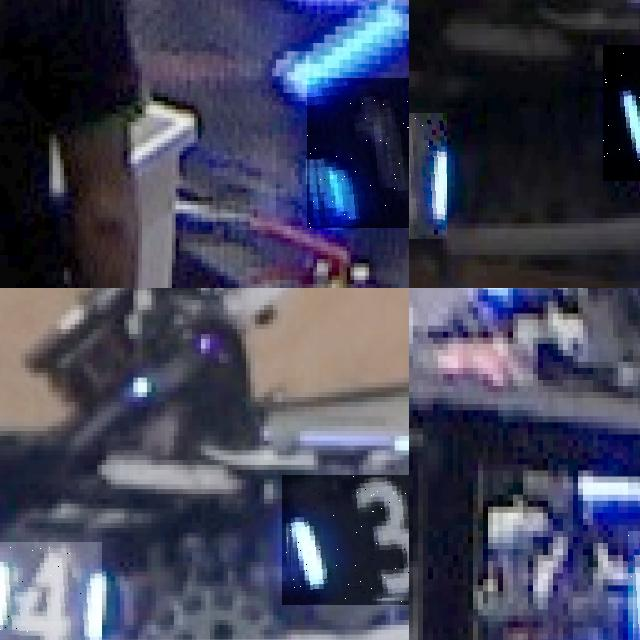B1: (307, 78, 409, 227)
B3: (282, 474, 409, 605)
B4: (0, 542, 101, 640), (409, 113, 447, 239)
